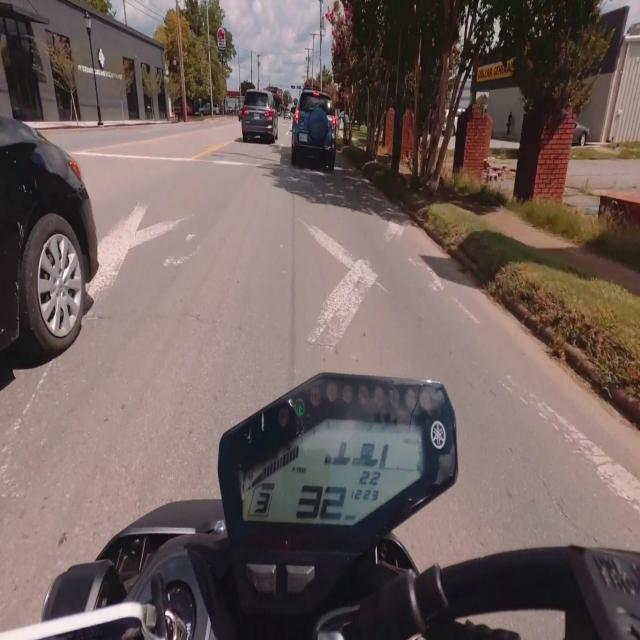car: (0, 117, 98, 356), (291, 89, 336, 170), (241, 90, 278, 143), (283, 108, 291, 119)
motorcycle: (0, 374, 639, 639)
